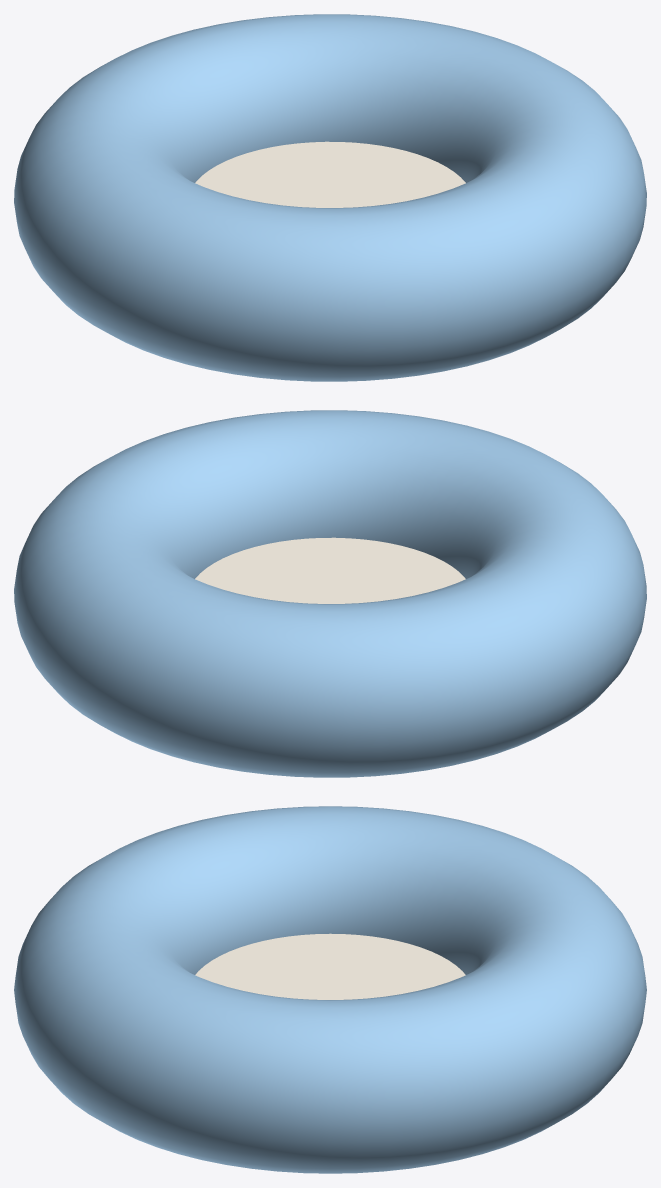
The model's file is catbed.glb.
The picture shows the model from 3 angles, top to bottom: view 1: azimuth 30°, elevation 25°; view 2: azimuth 150°, elevation 25°; view 3: azimuth 270°, elevation 25°; orthographic projection.
Bounding box in the file's own units: 1.38 × 0.38 × 1.38.
